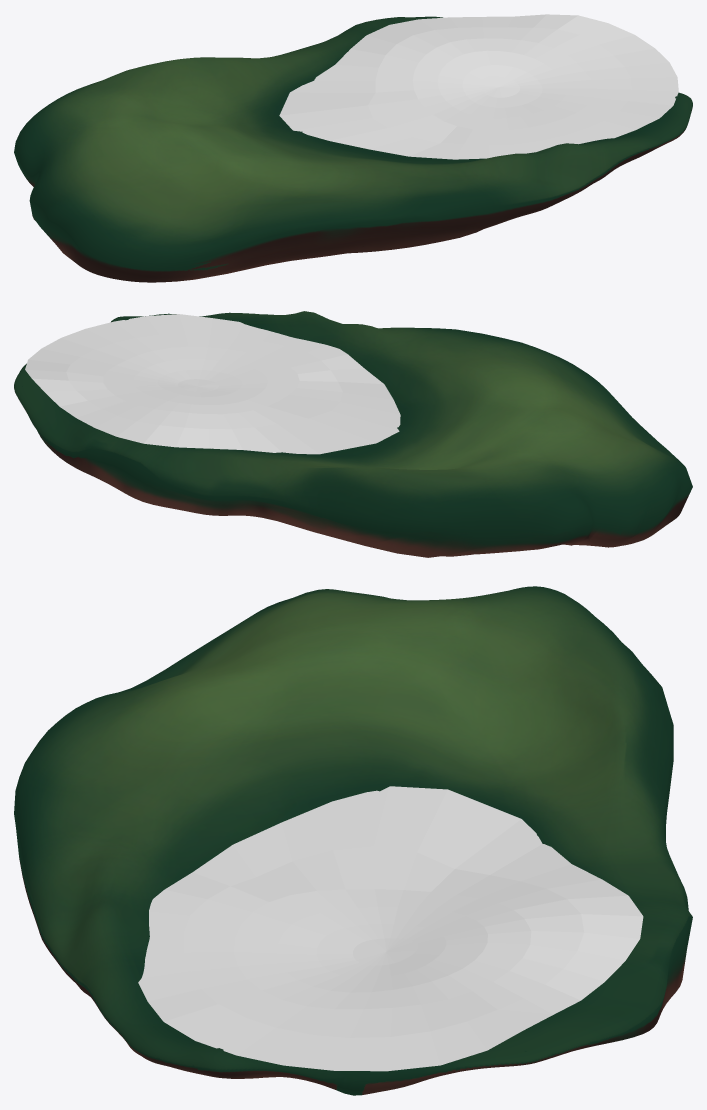
Rendered from Swamp_Environs.glb.
The picture shows the model from 3 angles, top to bottom: view 1: azimuth 30°, elevation 25°; view 2: azimuth 150°, elevation 25°; view 3: azimuth 270°, elevation 25°; orthographic projection. The views are drawn at different scales.
Visible parts, largest first — view 1: Cube.007, Circle.002; view 2: Cube.007, Circle.002; view 3: Cube.007, Circle.002.
Boxes of the visible parts, left/top/right/bottom form: Cube.007: left=14, top=16, right=692, bottom=282; Circle.002: left=279, top=14, right=678, bottom=159; Cube.007: left=14, top=311, right=692, bottom=557; Circle.002: left=25, top=314, right=400, bottom=454; Cube.007: left=14, top=586, right=692, bottom=1095; Circle.002: left=138, top=786, right=643, bottom=1071.
Size of the model in its own units: 660 by 94.13 by 398.
Materials: 1 (1 with a texture image).
